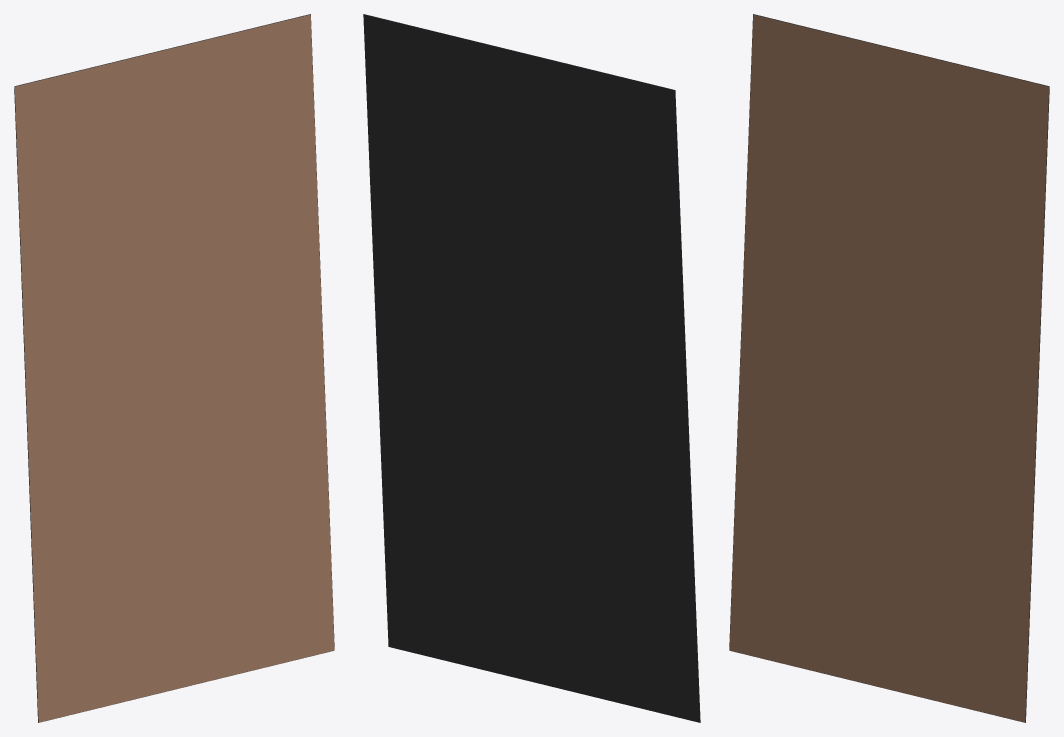
3 views of the same model, side by side, from view 1: azimuth 30°, elevation 25°; view 2: azimuth 150°, elevation 25°; view 3: azimuth 330°, elevation 25° (orthographic). The views are drawn at different scales.
Parts seen in each view (by area): view 1: xc_mirror, acrylic-mirror; view 2: acrylic-mirror; view 3: xc_mirror, acrylic-mirror.
Part boxes in pixels (x1,y1,x2,y2): xc_mirror: [14, 14, 334, 722]; acrylic-mirror: [14, 14, 334, 722]; acrylic-mirror: [363, 14, 700, 722]; xc_mirror: [729, 14, 1049, 722]; acrylic-mirror: [729, 14, 1049, 722].
Size of the model in its own units: 1.22 by 2.43 by 0.1725.
